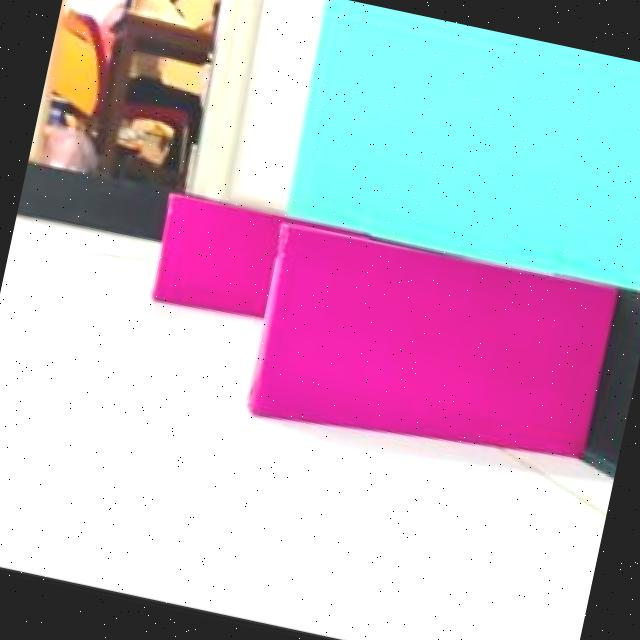xparking: (249, 222, 614, 484), (152, 193, 282, 320)
